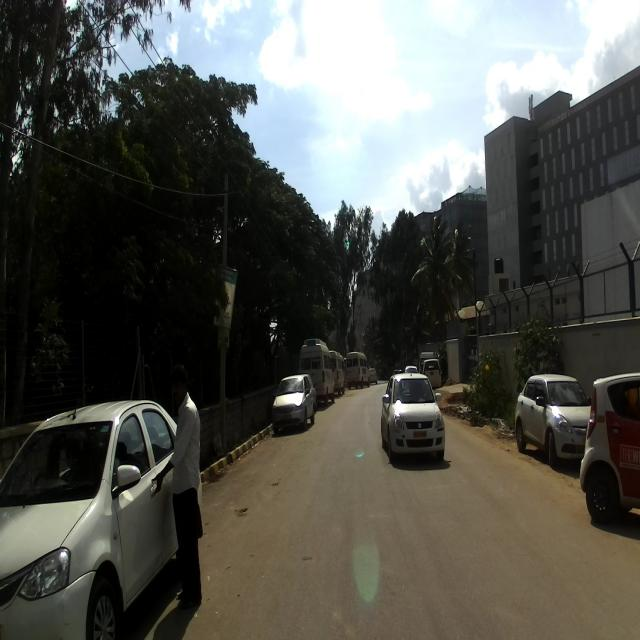car: (0, 397, 201, 638), (580, 372, 640, 525), (514, 373, 592, 468), (381, 370, 445, 462), (271, 373, 313, 433)
